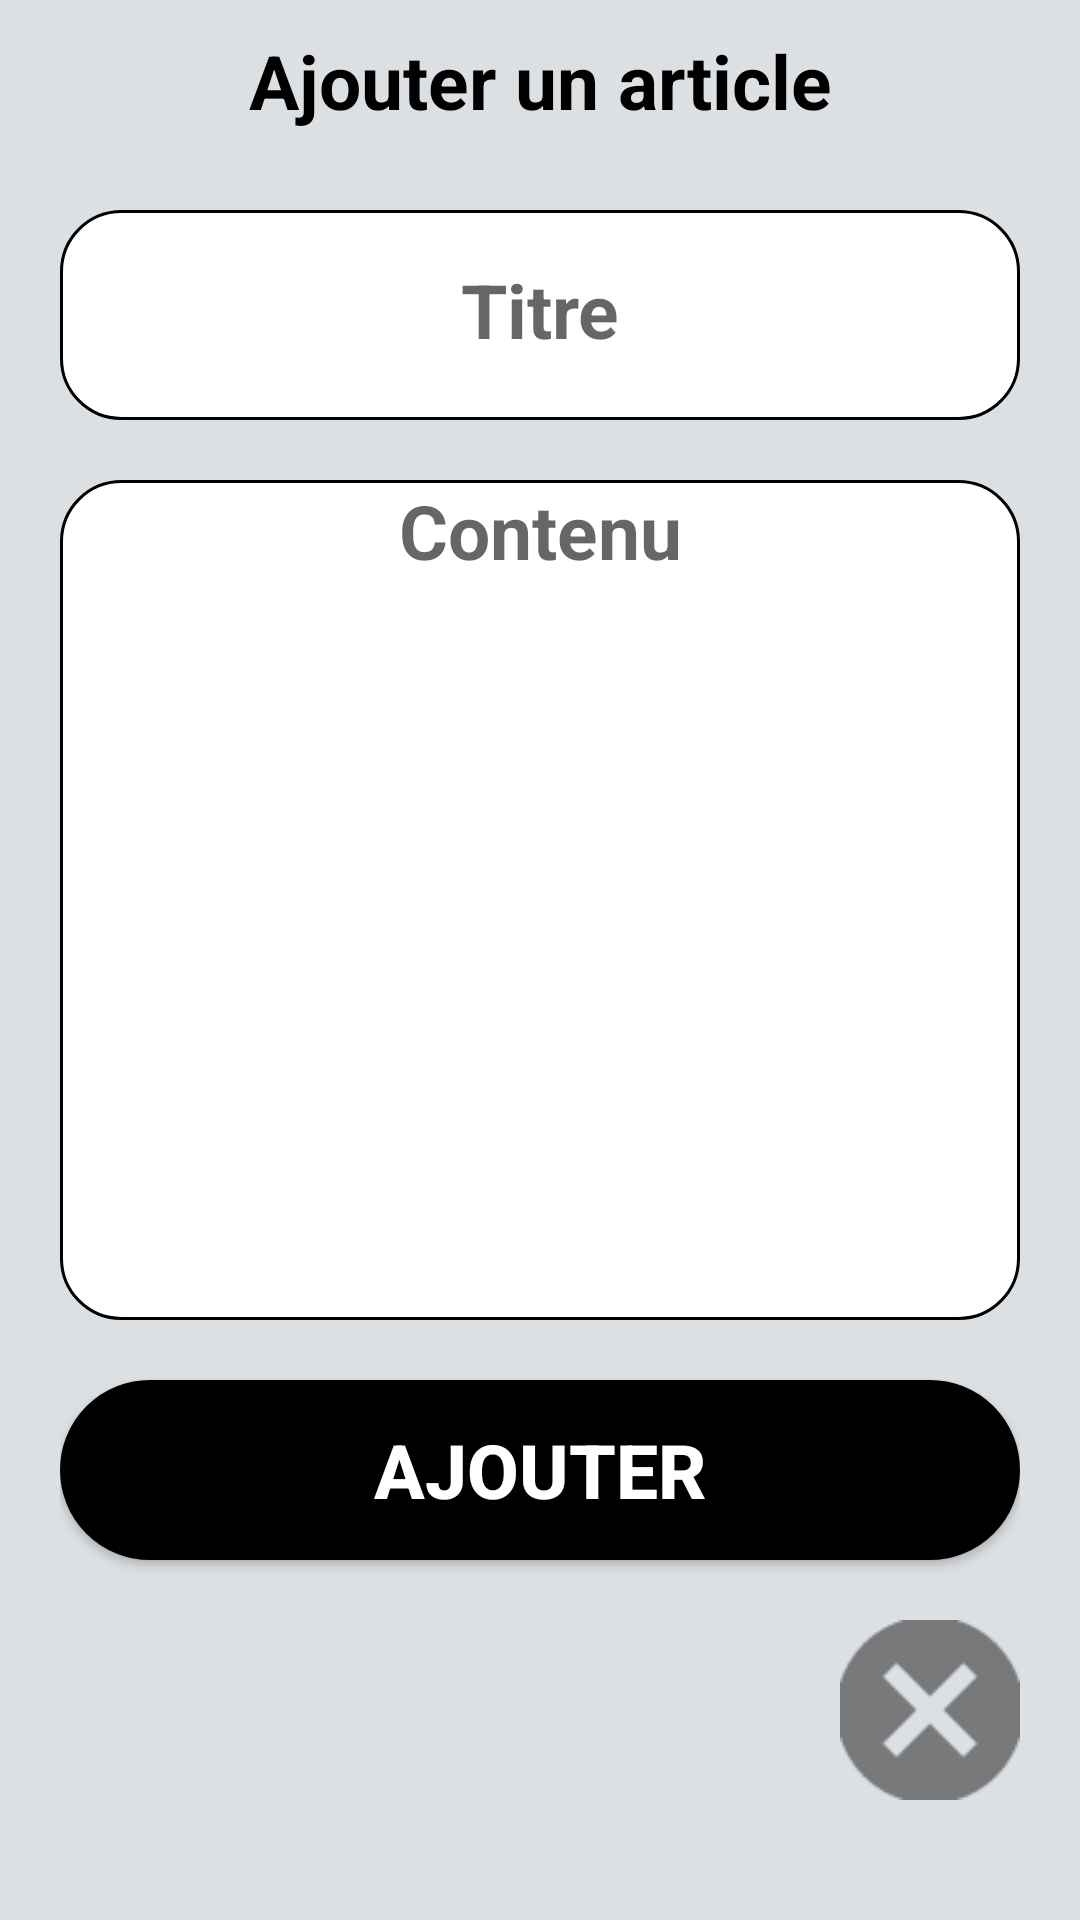

Icon bounding boxes for this 1080px×1920px phone screenshot, format (x1, y1, x2, y2):
cancel: (840, 1620, 1020, 1800)
